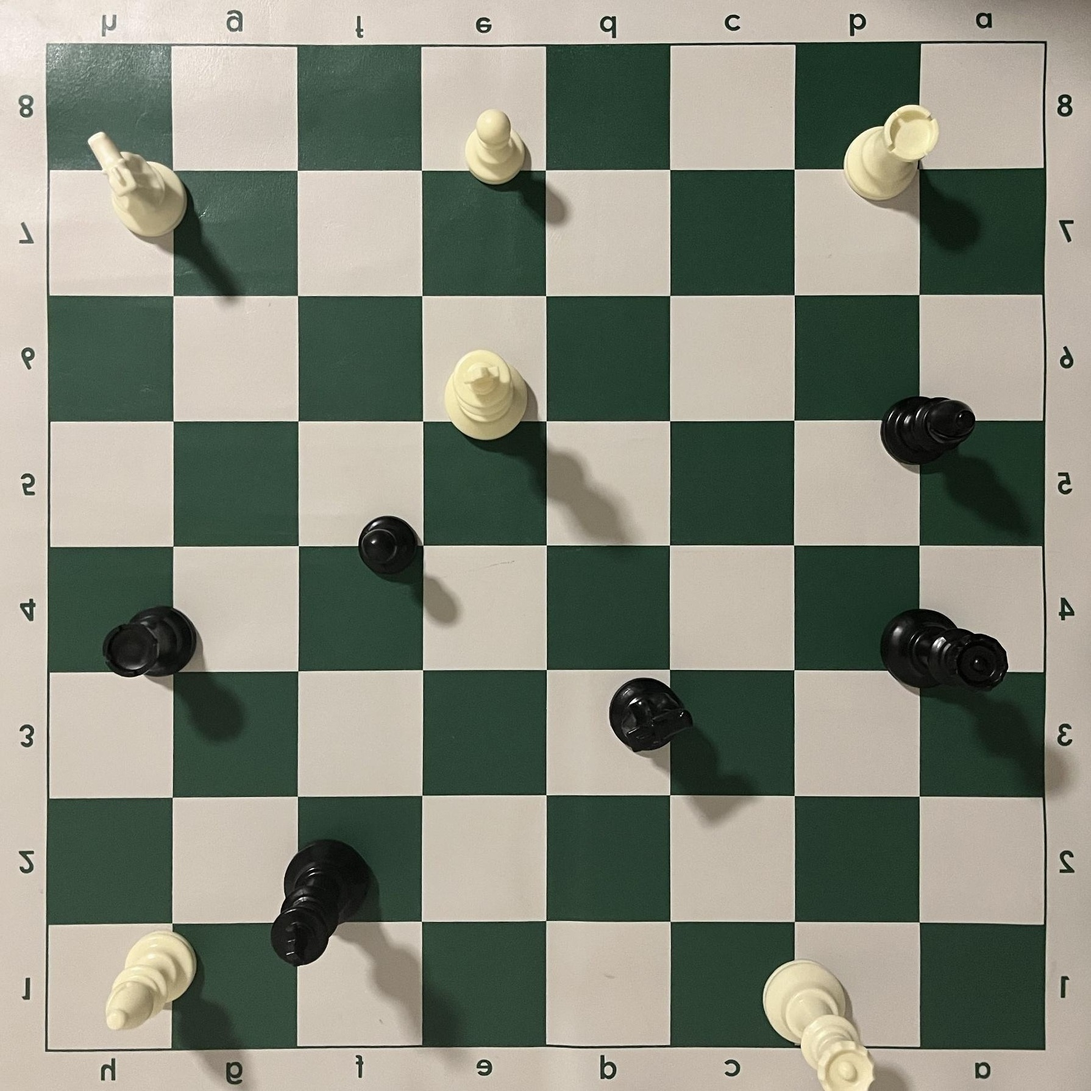black_bishop: (879, 396, 978, 466)
black_king: (269, 839, 372, 968)
black_knight: (608, 677, 694, 755)
black_pawn: (357, 516, 421, 580)
black_queen: (878, 608, 1010, 694)
black_rook: (102, 605, 197, 680)
white_bishop: (104, 929, 199, 1032)
white_king: (444, 350, 529, 442)
white_knight: (86, 130, 188, 238)
white_pawn: (464, 107, 526, 186)
white_queen: (761, 959, 877, 1090)
white_rook: (842, 104, 940, 202)
